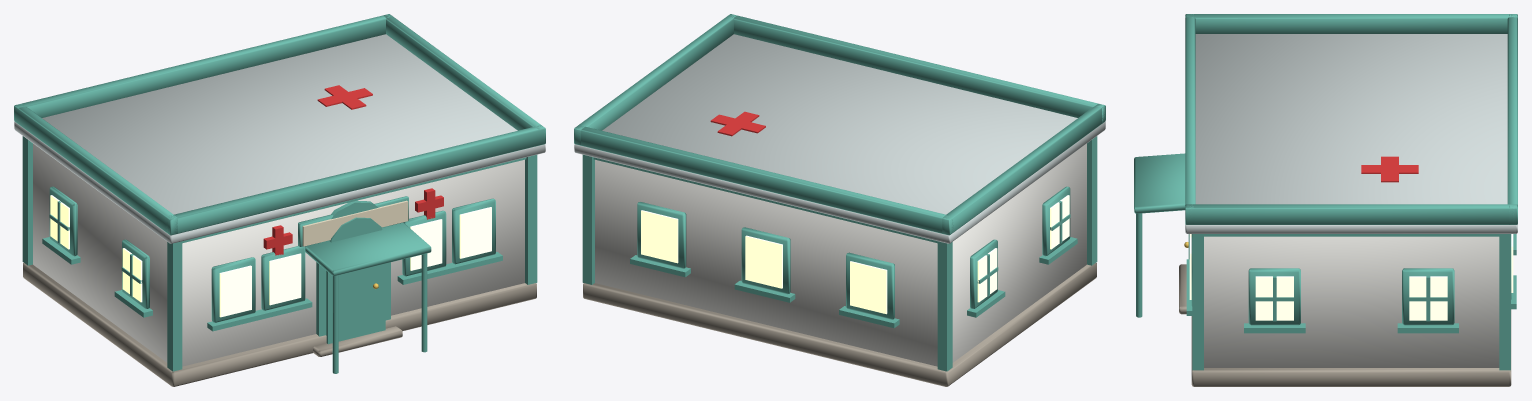
File: v_hospital.glb
The picture shows the model from 3 angles, left to right: view 1: azimuth 30°, elevation 25°; view 2: azimuth 150°, elevation 25°; view 3: azimuth 270°, elevation 25°; orthographic projection. The views are drawn at different scales.
Visible parts, largest first — view 1: Hospital; view 2: Hospital; view 3: Hospital.
Part boxes in pixels (x1=…): Hospital: x1=14, y1=14, x2=545, y2=386; Hospital: x1=574, y1=14, x2=1105, y2=386; Hospital: x1=1134, y1=14, x2=1517, y2=386.
Size of the model in its own units: 7.2 by 3.15 by 6.
